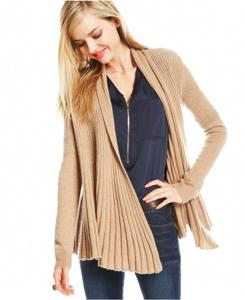C_cardigan sweater: (37, 46, 230, 272)
